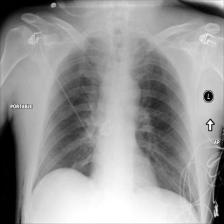normal: (29, 32, 204, 223)
